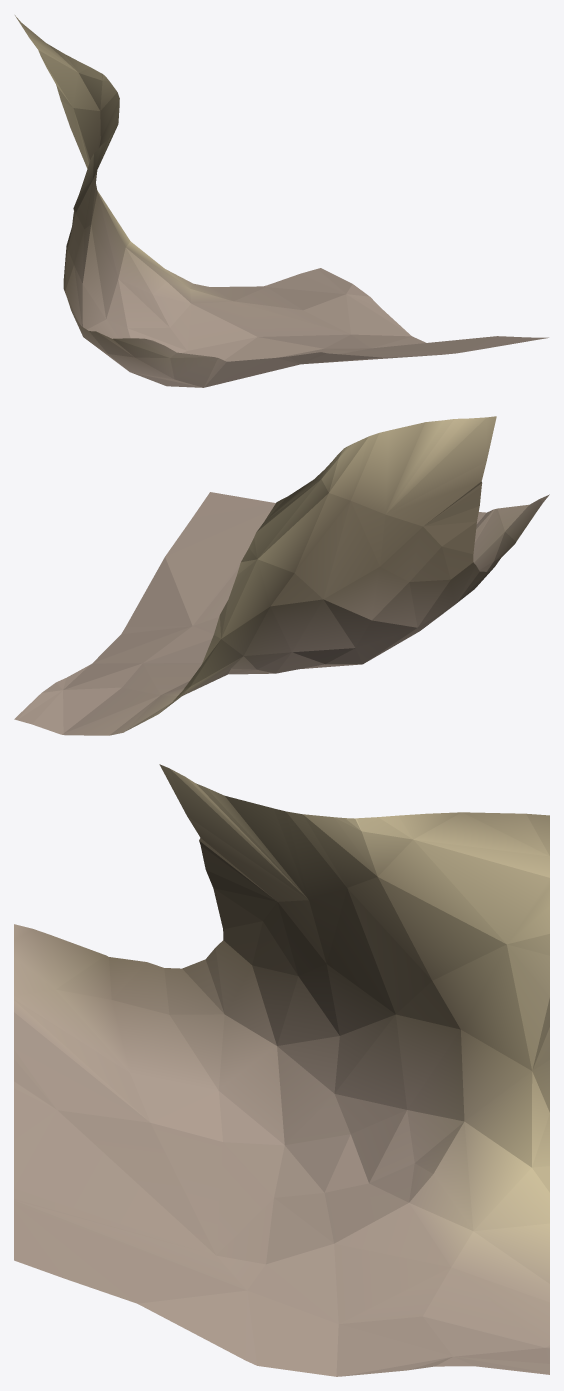
File: bisect-7-2-9.gltf
3 views of the same model, one above another, from view 1: azimuth 30°, elevation 25°; view 2: azimuth 150°, elevation 25°; view 3: azimuth 270°, elevation 25° (orthographic). The views are drawn at different scales.
Visible parts, largest first — view 1: bisect-7-2-9; view 2: bisect-7-2-9; view 3: bisect-7-2-9.
Boxes of the visible parts, left/top/right/bottom form: bisect-7-2-9: left=15, top=15, right=548, bottom=387; bisect-7-2-9: left=14, top=416, right=549, bottom=735; bisect-7-2-9: left=14, top=764, right=549, bottom=1376.
Size of the model in its own units: 20 by 16.04 by 20.
